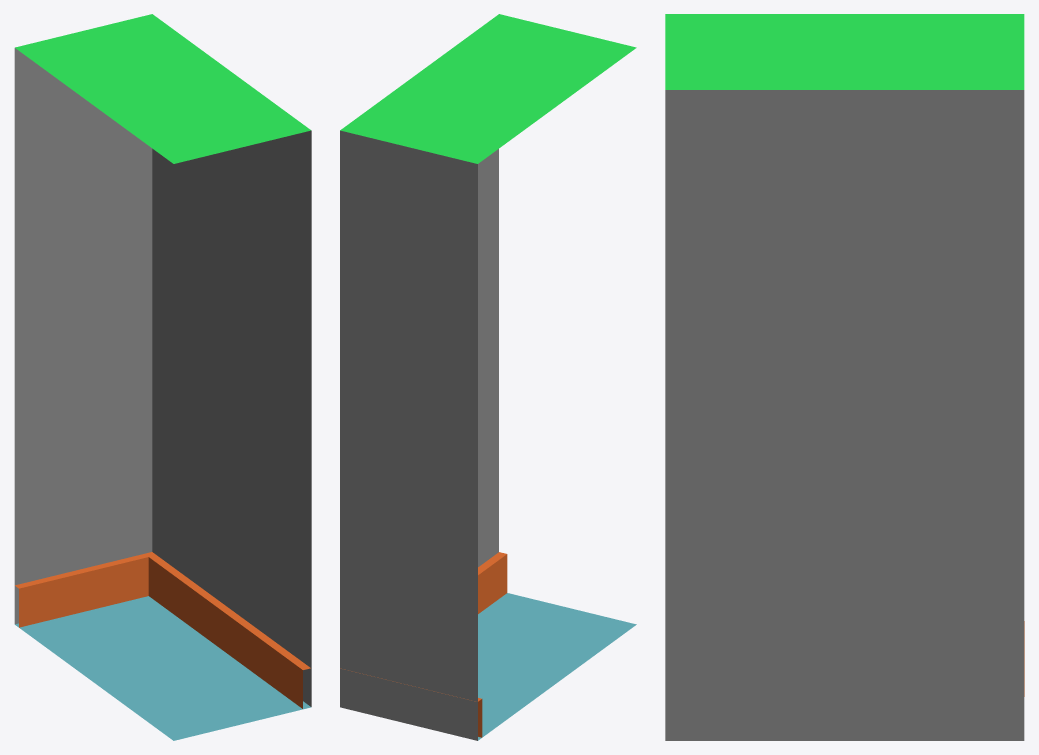
File: ModuleC_corner1.FBX
3 renders of one model, left to right at view 1: azimuth 30°, elevation 25°; view 2: azimuth 150°, elevation 25°; view 3: azimuth 270°, elevation 25°, orthographic. The views are drawn at different scales.
Visible parts, largest first — view 1: ModuleC_wall_01, ModuleC_roof_01, ModuleC_floor_01, ModuleC_skboard_01; view 2: ModuleC_wall_01, ModuleC_roof_01, ModuleC_floor_01, ModuleC_skboard_01; view 3: ModuleC_wall_01, ModuleC_roof_01.
Boxes of the visible parts, box(x1,y1,x2,y2) form: ModuleC_wall_01: box(14, 48, 311, 706); ModuleC_roof_01: box(15, 14, 310, 163); ModuleC_floor_01: box(15, 596, 310, 740); ModuleC_skboard_01: box(15, 552, 310, 708); ModuleC_wall_01: box(340, 130, 498, 740); ModuleC_roof_01: box(340, 14, 636, 163); ModuleC_floor_01: box(478, 593, 636, 740); ModuleC_skboard_01: box(340, 552, 507, 737); ModuleC_wall_01: box(665, 90, 1024, 740); ModuleC_roof_01: box(665, 14, 1024, 89).
Bounding box in the file's own units: 19.69 × 39.41 × 78.74.
